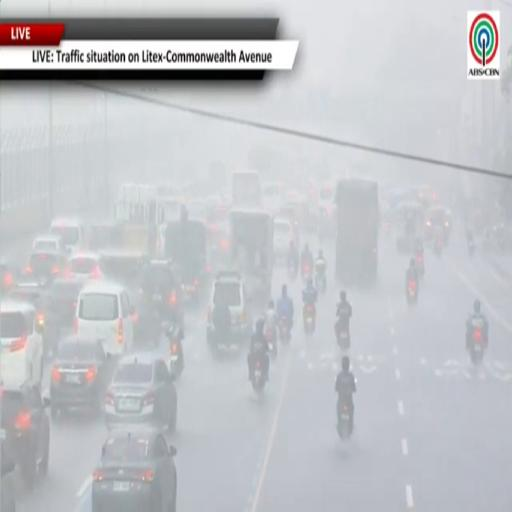car: (92, 427, 176, 511), (105, 352, 177, 431), (2, 380, 50, 488), (50, 336, 112, 418), (75, 281, 134, 356), (6, 280, 59, 357), (0, 299, 44, 383), (207, 271, 252, 353), (139, 260, 184, 327), (48, 277, 83, 333), (128, 288, 161, 347), (25, 250, 67, 284), (50, 218, 86, 253), (67, 251, 104, 281), (0, 444, 16, 511), (424, 205, 452, 243), (274, 218, 297, 261), (88, 221, 121, 250), (262, 182, 283, 214), (0, 260, 19, 293), (32, 234, 65, 252)
motorcycle: (167, 326, 184, 378), (469, 328, 485, 366), (337, 400, 351, 440), (252, 358, 265, 393), (335, 322, 350, 350), (303, 304, 315, 334), (315, 265, 326, 294), (279, 317, 290, 344), (266, 329, 276, 358), (407, 279, 417, 305), (415, 253, 425, 277), (301, 263, 311, 282), (434, 236, 443, 257), (288, 263, 297, 281), (468, 240, 476, 257)
truck: (335, 179, 380, 285), (230, 208, 273, 303), (231, 171, 262, 207)
